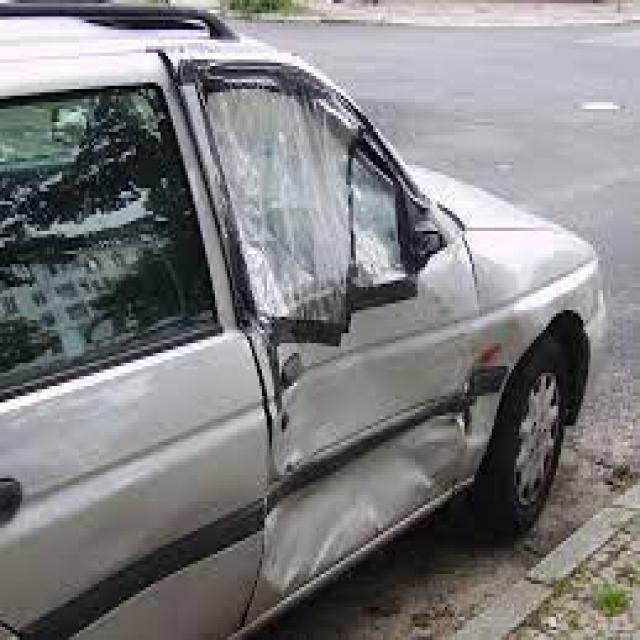damaged-door: (192, 61, 492, 622)
